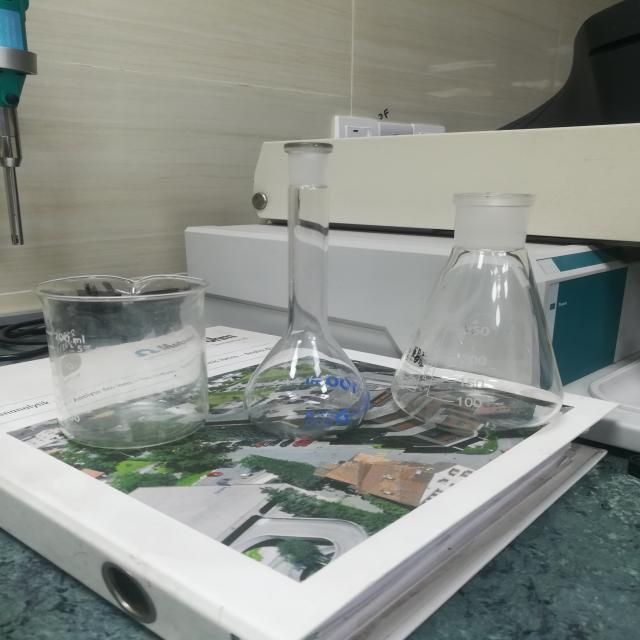Beaker: (27, 247, 230, 460)
Conical_Flask: (392, 176, 583, 440)
Volumetric_Flask: (239, 118, 377, 443)
